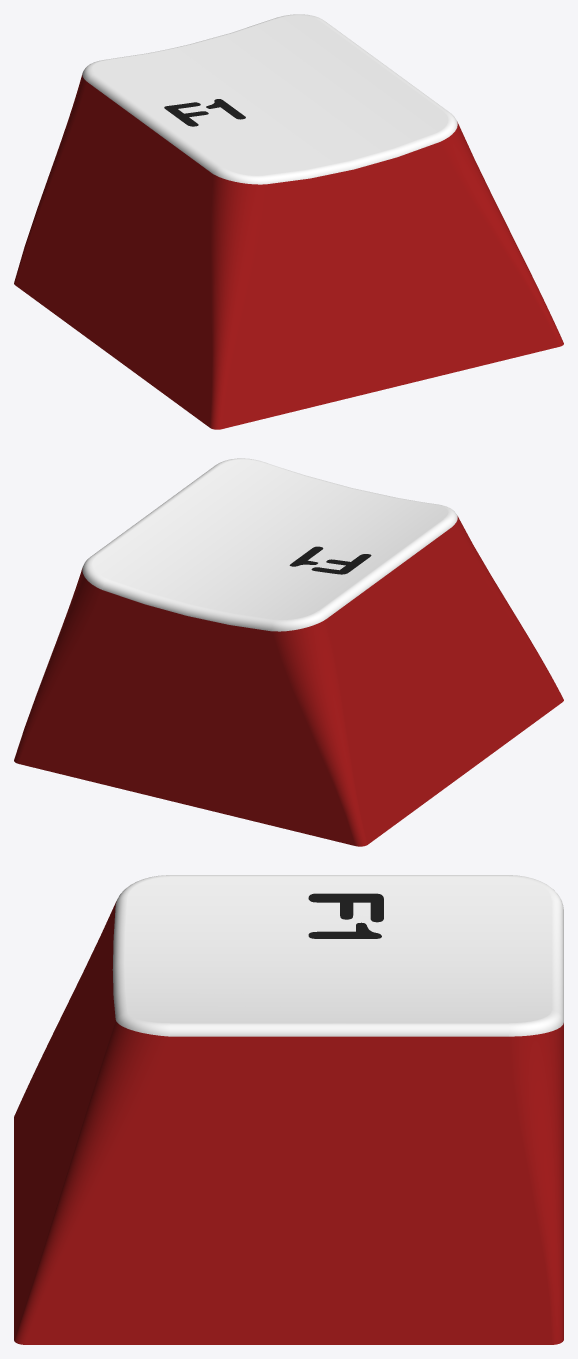
The picture shows the model from 3 angles, top to bottom: view 1: azimuth 30°, elevation 25°; view 2: azimuth 150°, elevation 25°; view 3: azimuth 270°, elevation 25°; orthographic projection. The views are drawn at different scales.
Parts seen in each view (by area): view 1: Body1; view 2: Body1; view 3: Body1.
Boxes of the visible parts, x1,y1,x2,y2 form: Body1: (14, 14, 563, 429); Body1: (14, 458, 563, 846); Body1: (14, 875, 563, 1344).
Bounding box in the file's own units: 18 × 10.07 × 18.
